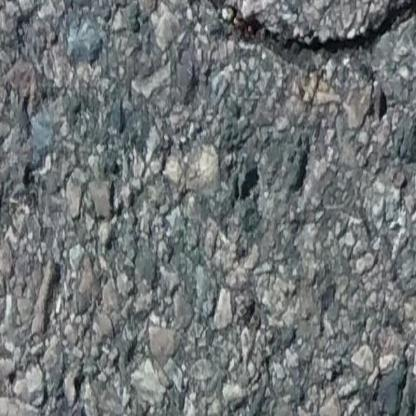Cracks: (162, 0, 416, 119)
